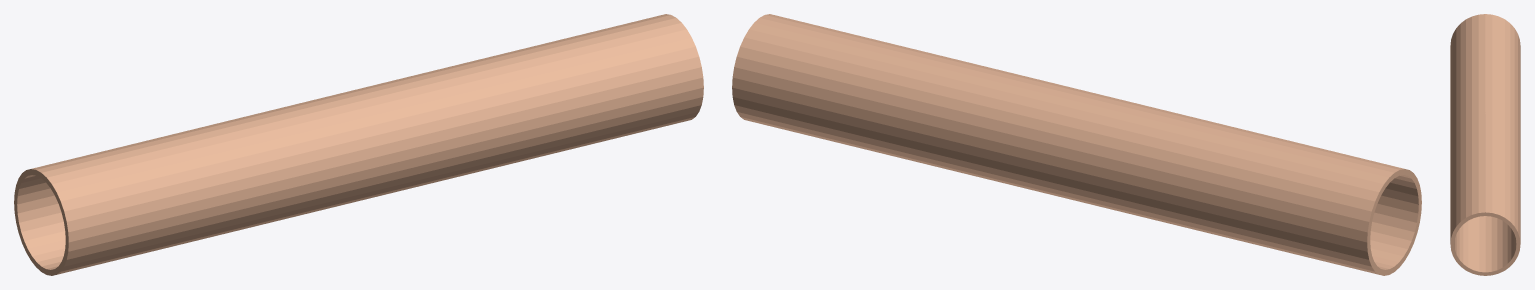
Rendered from pipe_simple.fbx.
3 renders of one model, left to right at view 1: azimuth 30°, elevation 25°; view 2: azimuth 150°, elevation 25°; view 3: azimuth 270°, elevation 25°, orthographic. The views are drawn at different scales.
Visible parts, largest first — view 1: Cylinder; view 2: Cylinder; view 3: Cylinder.
Part boxes in pixels (x1,y1,x2,y2): Cylinder: (14,14,703,275); Cylinder: (732,14,1421,275); Cylinder: (1450,14,1520,275).
Size of the model in its own units: 1186 by 177 by 177.
